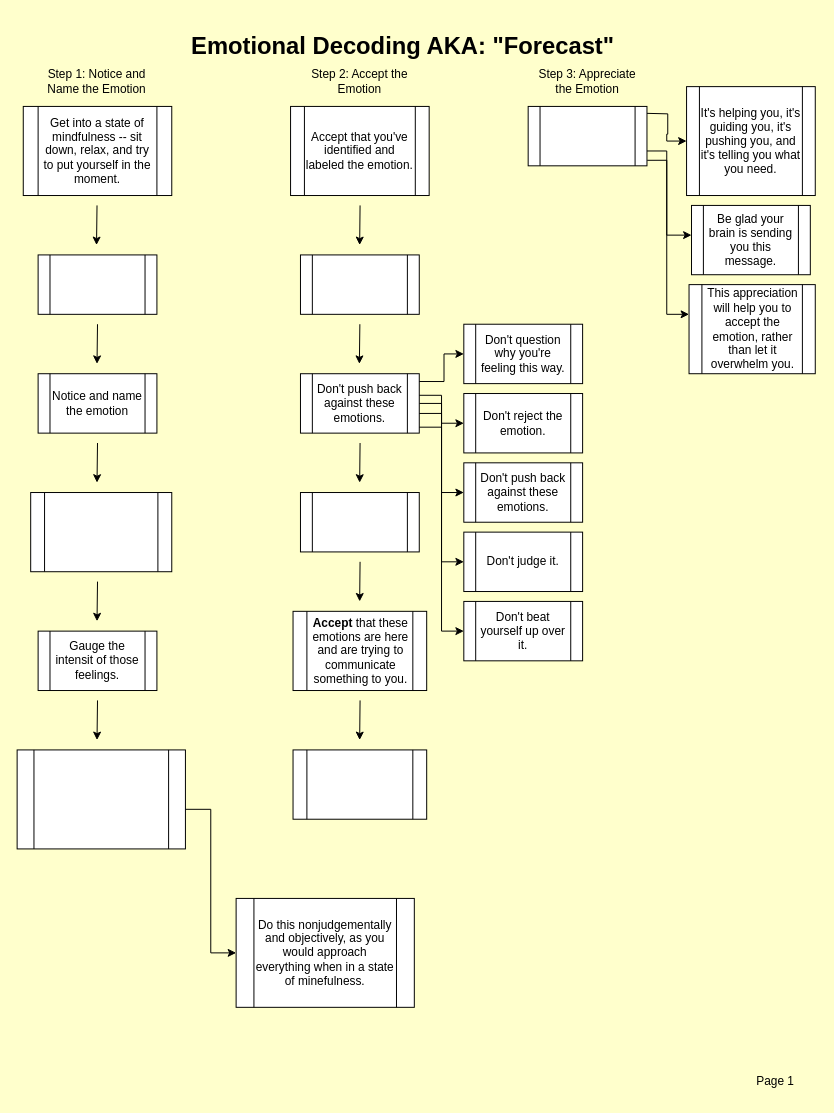
This 834x1113 diagram has some shape labels left out. The shapes that lost their labels are listed below. From the top down, each one's centre as x and y in pixels, then its label:
(x=587, y=135): Take a moment to appreciate the emotion.
(x=97, y=284): Ask yourself "How am I feeling?"
(x=359, y=284): Relax, breathe, and accept this.
(x=101, y=532): Notice the emotion present in your answer to that question and name it.
(x=359, y=522): Instead...
(x=100, y=799): Identify the emotion and describe it in as much possible detail as possible.
(x=359, y=784): Understand that you are about to take steps to act on that information.
